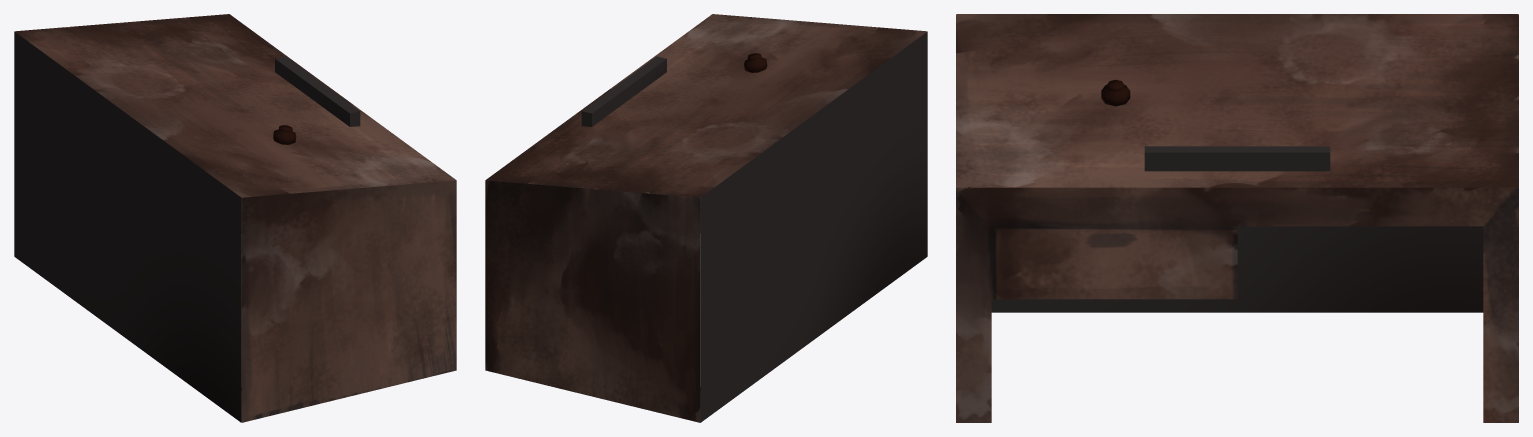
Rendered from Table04.fbx.
3 renders of one model, left to right at view 1: azimuth 30°, elevation 25°; view 2: azimuth 150°, elevation 25°; view 3: azimuth 270°, elevation 25°, orthographic. The views are drawn at different scales.
Parts seen in each view (by area): view 1: Desk01; view 2: Desk01; view 3: Desk01, Inkwell01.
Boxes of the visible parts, <box> form: Desk01: <box>14,14,456,422</box>; Desk01: <box>485,14,927,422</box>; Desk01: <box>956,14,1518,422</box>; Inkwell01: <box>1101,79,1130,106</box>.
Bounding box in the file's own units: 1 × 1 × 1.83.
Materials: 2 (1 with a texture image).
